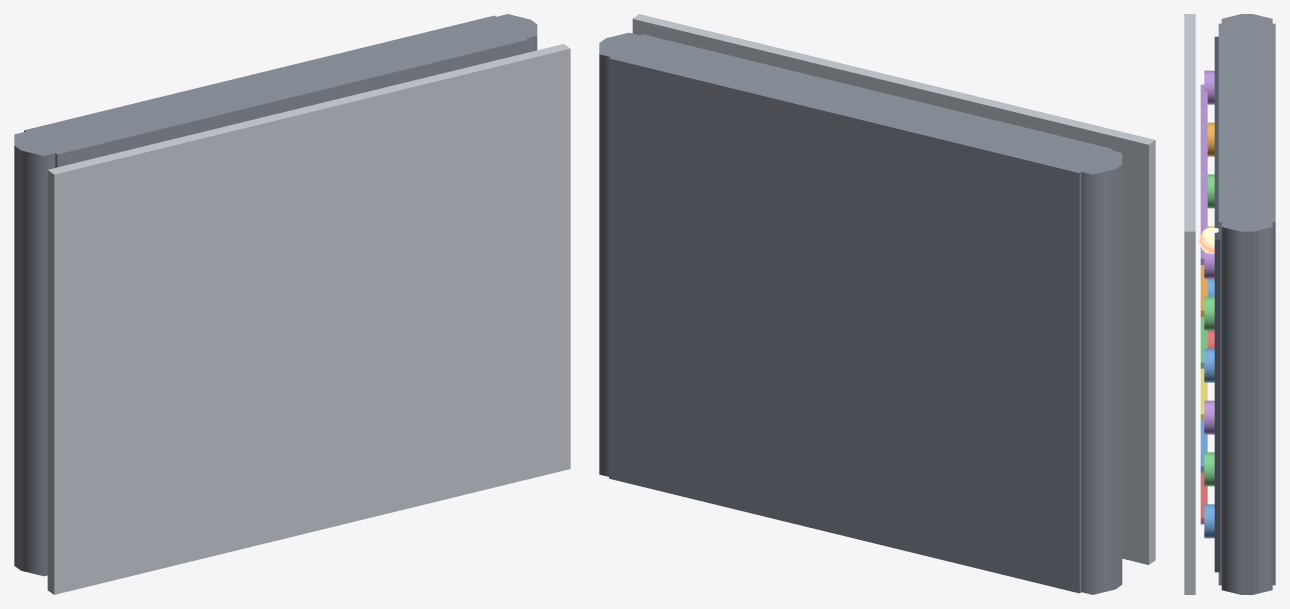
File: prop_wire_panel.glb
3 views of the same model, side by side, from view 1: azimuth 30°, elevation 25°; view 2: azimuth 150°, elevation 25°; view 3: azimuth 270°, elevation 25° (orthographic). The views are drawn at different scales.
Parts seen in each view (by area): view 1: cover_door, prop_wire_panel; view 2: prop_wire_panel, cover_door; view 3: prop_wire_panel, cover_door, wire_6, socket_right_1, socket_right_2, socket_right_3, socket_right_4, socket_right_5, status_light, terminal_left_6, wire_2, wire_3 (+7 smaller).
Boxes of the visible parts, x1,y1,x2,y2 form: cover_door: (47, 44, 570, 594); prop_wire_panel: (14, 14, 537, 576); prop_wire_panel: (599, 32, 1122, 594); cover_door: (632, 14, 1155, 564); prop_wire_panel: (1214, 14, 1275, 594); cover_door: (1184, 14, 1195, 594); wire_6: (1200, 84, 1207, 264); socket_right_1: (1204, 504, 1214, 538); socket_right_2: (1204, 452, 1214, 486); socket_right_3: (1204, 400, 1214, 434); socket_right_4: (1204, 348, 1214, 382); socket_right_5: (1204, 296, 1214, 330); status_light: (1198, 227, 1218, 254); terminal_left_6: (1204, 70, 1214, 104); wire_2: (1200, 420, 1207, 472); wire_3: (1200, 368, 1207, 420).
Bounding box in the file's own units: 0.9 × 0.7 × 0.16.
